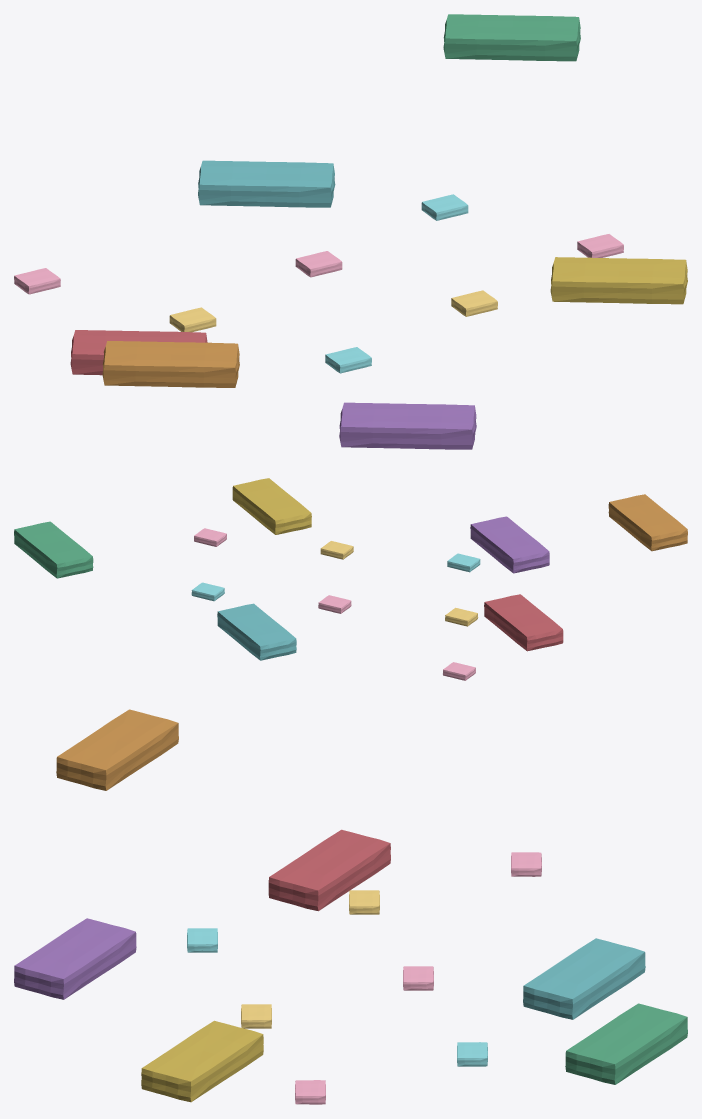
The model's file is confeti.glb.
3 renders of one model, top to bottom at view 1: azimuth 30°, elevation 25°; view 2: azimuth 150°, elevation 25°; view 3: azimuth 270°, elevation 25°, orthographic. The views are drawn at different scales.
Visible parts, largest first — view 1: confeti_02, confeti_03, confeti_01, confeti_04, confeti_05, confeti_00, Detalle_06, Detalle_04, Detalle_05, Detalle_01, Detalle_03, Detalle_02 (+1 smaller); view 2: confeti_00, confeti_04, confeti_03, confeti_01, confeti_05, confeti_02, Detalle_03, Detalle_04, Detalle_05, Detalle_06, Detalle_02, Detalle_07 (+1 smaller); view 3: confeti_02, confeti_00, confeti_05, confeti_04, confeti_01, confeti_03, Detalle_02, Detalle_03, Detalle_04, Detalle_01, Detalle_05, Detalle_06 (+1 smaller).
Boxes of the visible parts, x1,y1,x2,y2 form: confeti_02: (443, 14, 580, 61); confeti_03: (339, 402, 476, 449); confeti_01: (550, 257, 687, 304); confeti_04: (198, 160, 335, 207); confeti_05: (102, 341, 239, 387); confeti_00: (70, 330, 207, 375); Detalle_06: (421, 194, 468, 220); Detalle_04: (295, 251, 342, 277); Detalle_05: (451, 290, 497, 316); Detalle_01: (14, 268, 60, 294); Detalle_03: (325, 347, 371, 373); Detalle_02: (169, 307, 216, 332); confeti_00: (484, 594, 563, 651); confeti_04: (217, 603, 296, 660); confeti_03: (470, 516, 549, 573); confeti_01: (232, 478, 311, 534); confeti_05: (608, 494, 687, 551); confeti_02: (14, 521, 93, 578); Detalle_03: (447, 553, 480, 572); Detalle_04: (318, 595, 351, 613); Detalle_05: (320, 541, 353, 559); Detalle_06: (191, 582, 224, 601); Detalle_02: (445, 607, 478, 626); Detalle_07: (194, 528, 226, 546); confeti_02: (565, 1003, 687, 1084); confeti_00: (268, 829, 390, 911); confeti_05: (56, 709, 178, 790); confeti_04: (523, 938, 645, 1019); confeti_01: (141, 1020, 263, 1102); confeti_03: (14, 918, 136, 999); Detalle_02: (349, 890, 379, 914); Detalle_03: (187, 928, 217, 952); Detalle_04: (403, 966, 433, 990); Detalle_01: (511, 852, 541, 876); Detalle_05: (241, 1004, 271, 1028); Detalle_06: (457, 1042, 487, 1066).
Size of the model in its own units: 0.813 by 0.131 by 0.6514.
